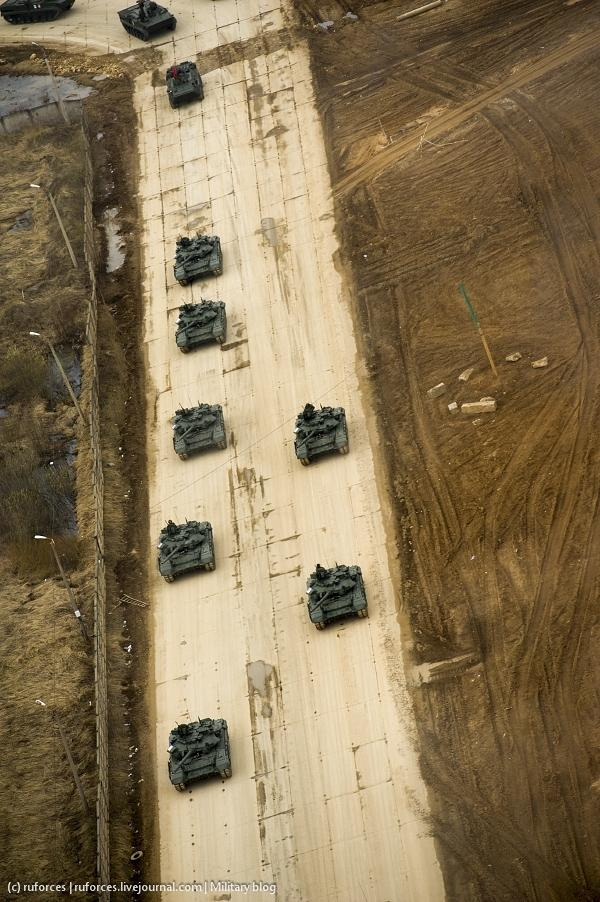armored_car: (527, 244, 562, 307)
tank: (72, 249, 125, 348), (179, 456, 228, 562), (211, 228, 256, 324), (288, 438, 334, 528), (293, 255, 334, 345), (364, 256, 402, 342), (410, 259, 447, 341)
